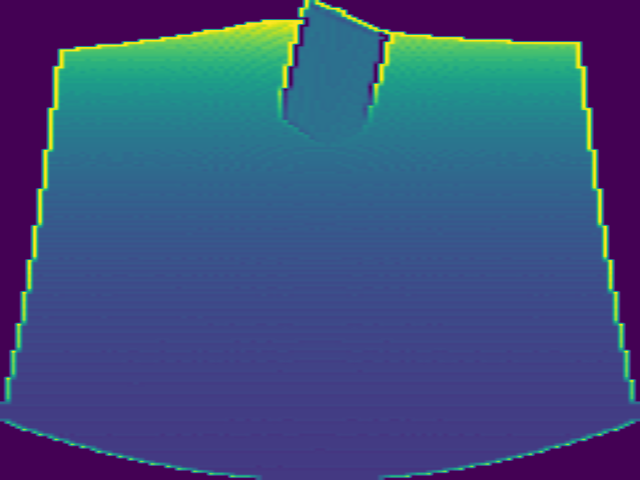cylinder: (278, 1, 391, 142)
